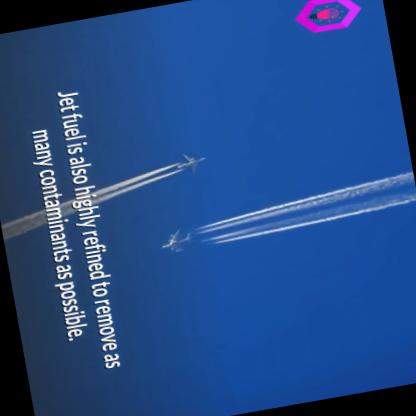plane: (153, 223, 199, 262), (159, 148, 210, 180)
